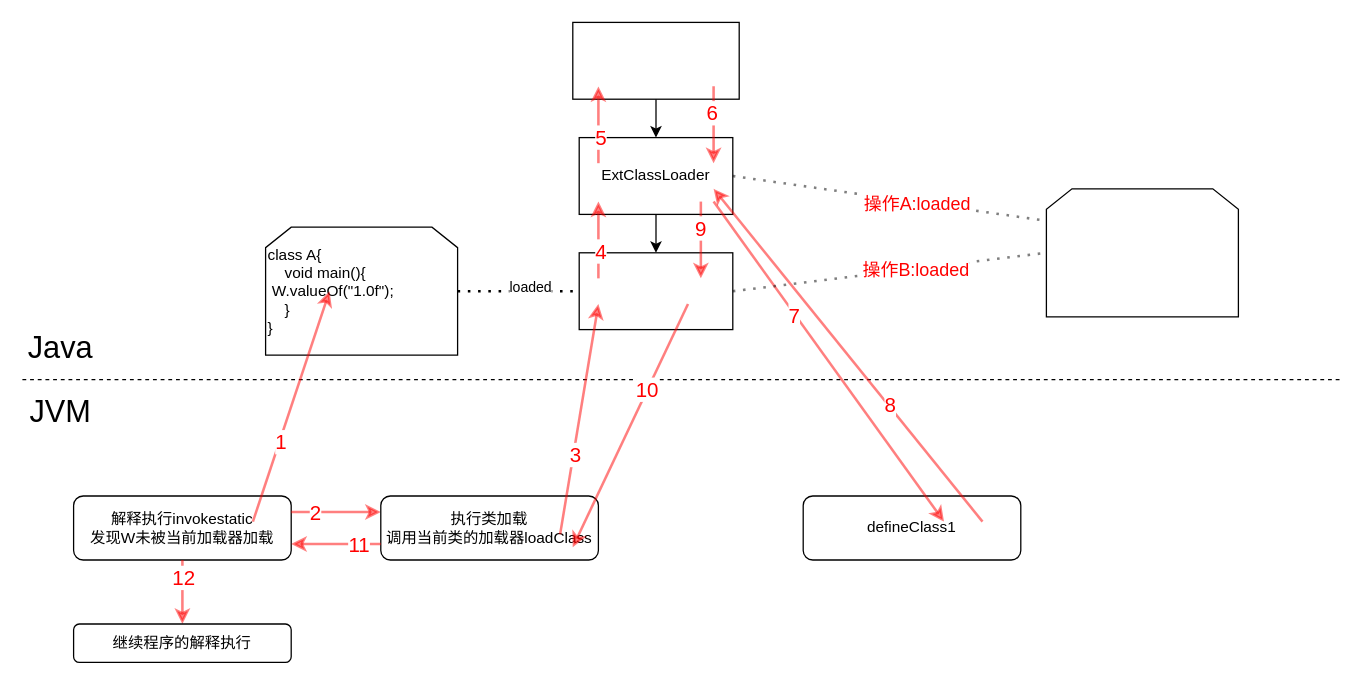
The diagram is 1364 pixels wide and 685 high, and some of its shapes have lost their labels. The shapes that lost their labels are listed below. From the top down, each one's centre as x and y in pixels, then its label:
the point at 655,60: BootstrapClassLoader
the point at 1141,252: class W{ void valueOf(String x){ } }
the point at 655,291: AppClassLoader
